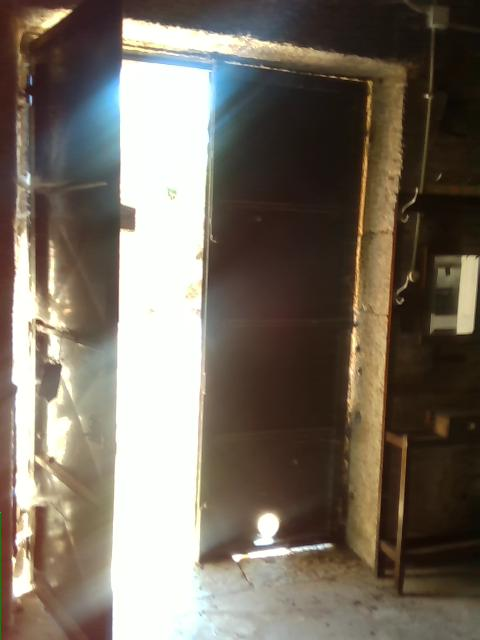semi_door: (12, 1, 406, 639)
